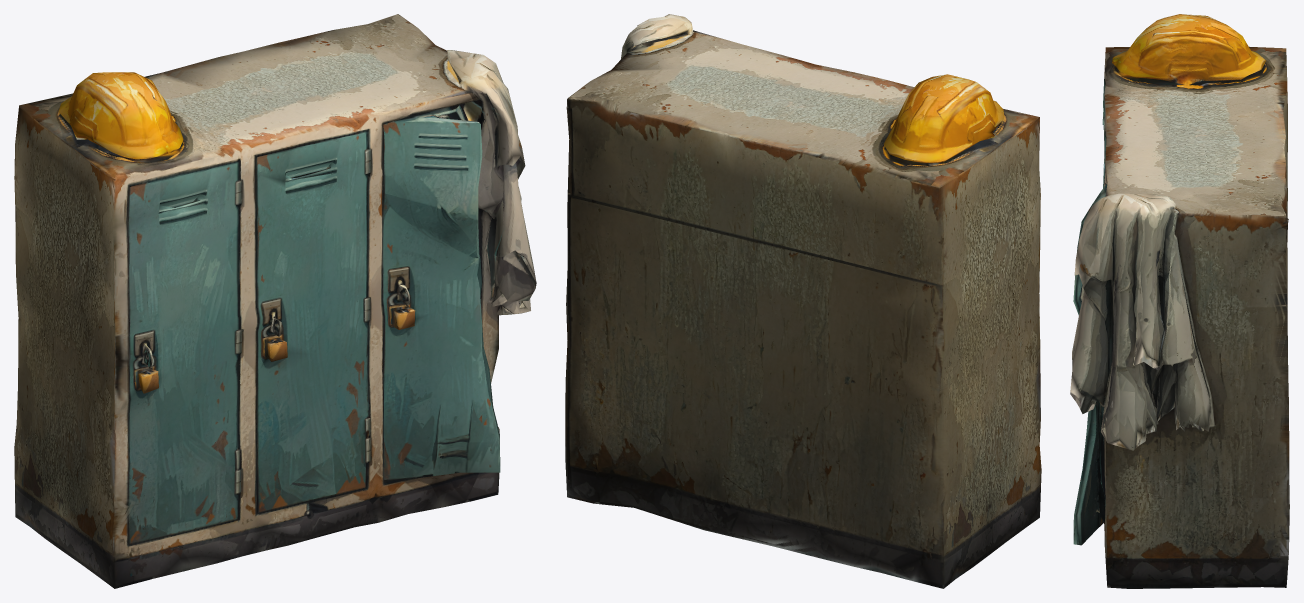
The model's file is EX_Lab_Locker.fbx.
3 renders of one model, left to right at view 1: azimuth 30°, elevation 25°; view 2: azimuth 150°, elevation 25°; view 3: azimuth 270°, elevation 25°, orthographic. The views are drawn at different scales.
Parts seen in each view (by area): view 1: texture_mapping; view 2: texture_mapping; view 3: texture_mapping.
Boxes of the visible parts, x1,y1,x2,y2 form: texture_mapping: (14, 14, 536, 588); texture_mapping: (565, 14, 1041, 588); texture_mapping: (1070, 14, 1289, 588).
Size of the model in its own units: 0.9761 by 0.4753 by 1.01.
1 material, 1 textured.
